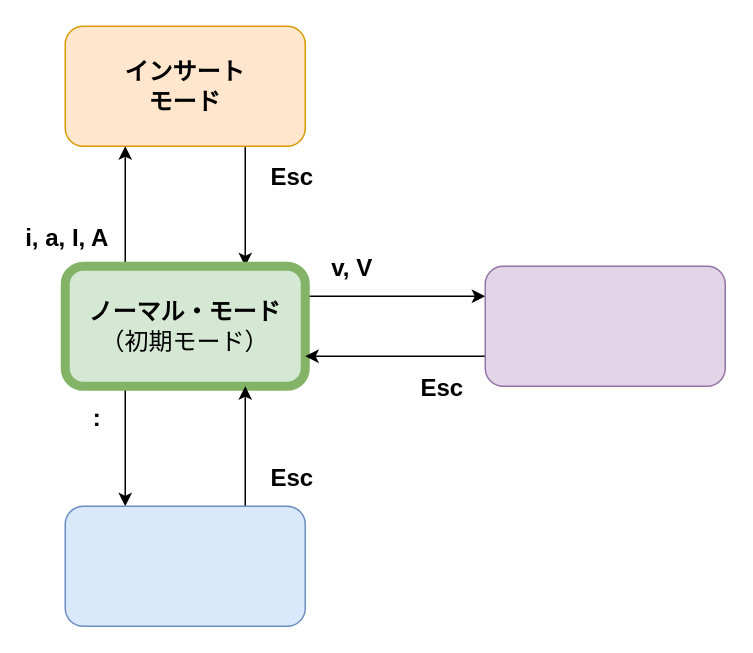
This 753x653 diagram has some shape labels left out. The box of each missing label's shape, as (x1, y1, x2, y2) in pixels:
コマンドライン モード: (64, 505, 305, 626)
ビジュアル モード: (484, 265, 725, 386)
